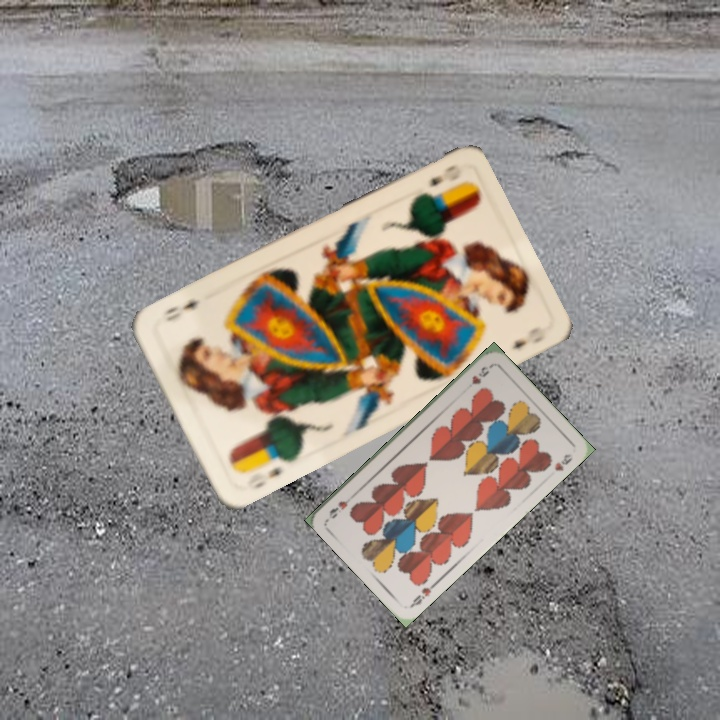EO: (425, 160, 464, 190), (264, 452, 291, 481)
H9: (406, 578, 440, 610), (468, 361, 495, 387)
